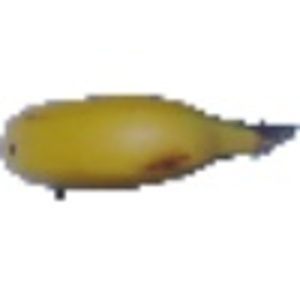banana: (1, 89, 291, 191)
